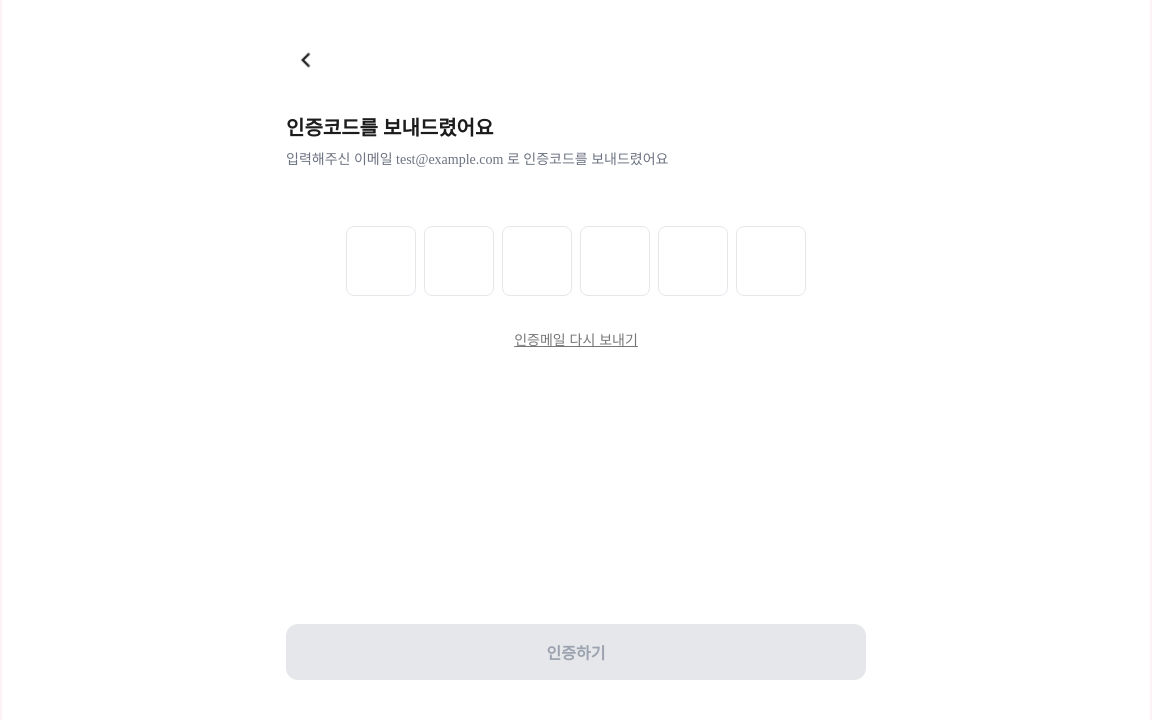
it: VerifyPage › 인증 동작 › 인증 실패 시 에러 메시지가 표시되고 코드가 초기화된다
Click the 1st field at [381, 261], box [346,226,416,296]
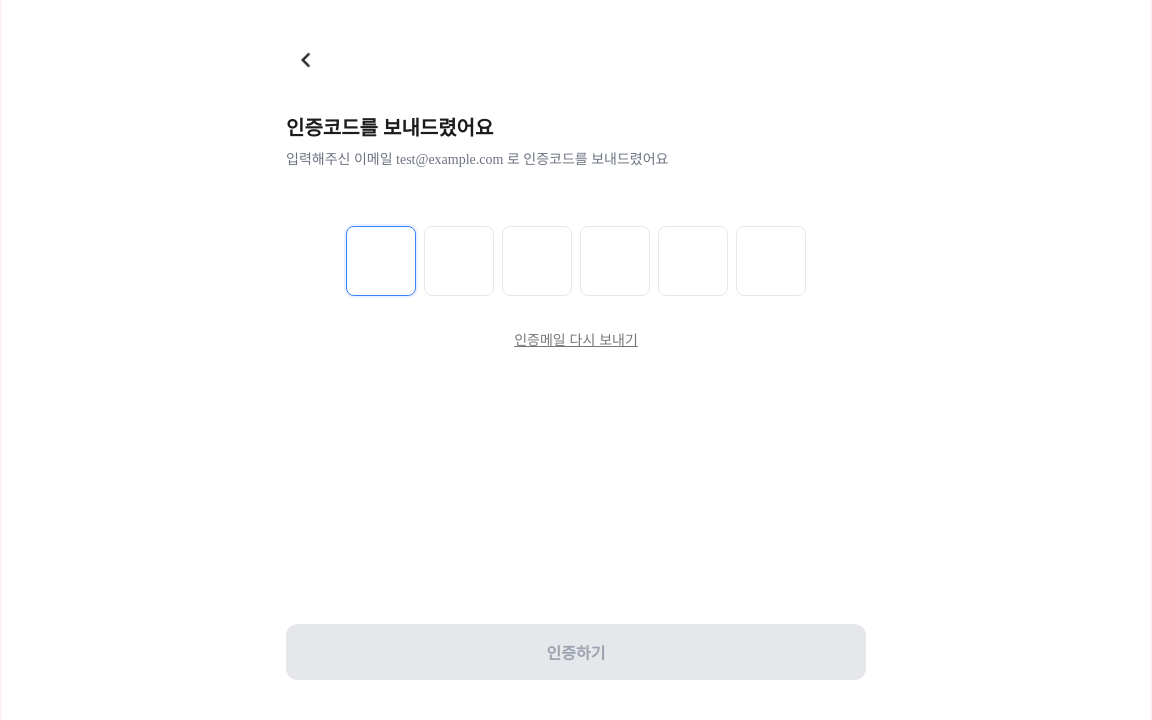
Type keys "999999"
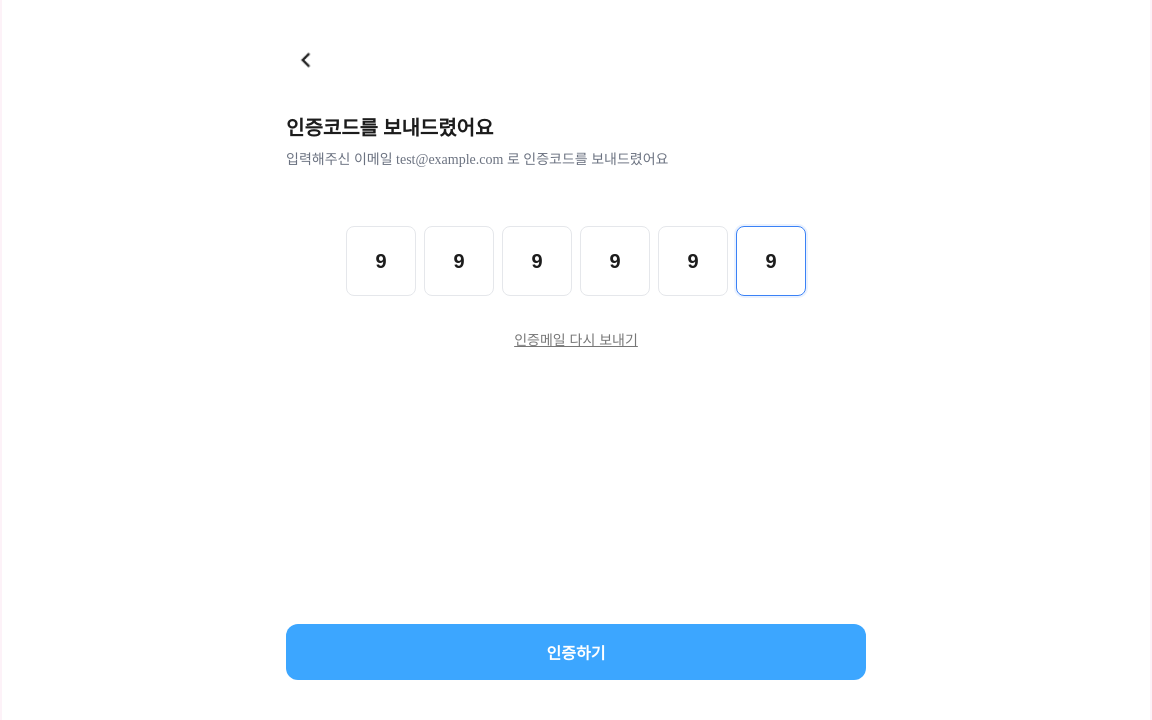
Click the button "인증하기" at [576, 652], box [286,624,866,680]
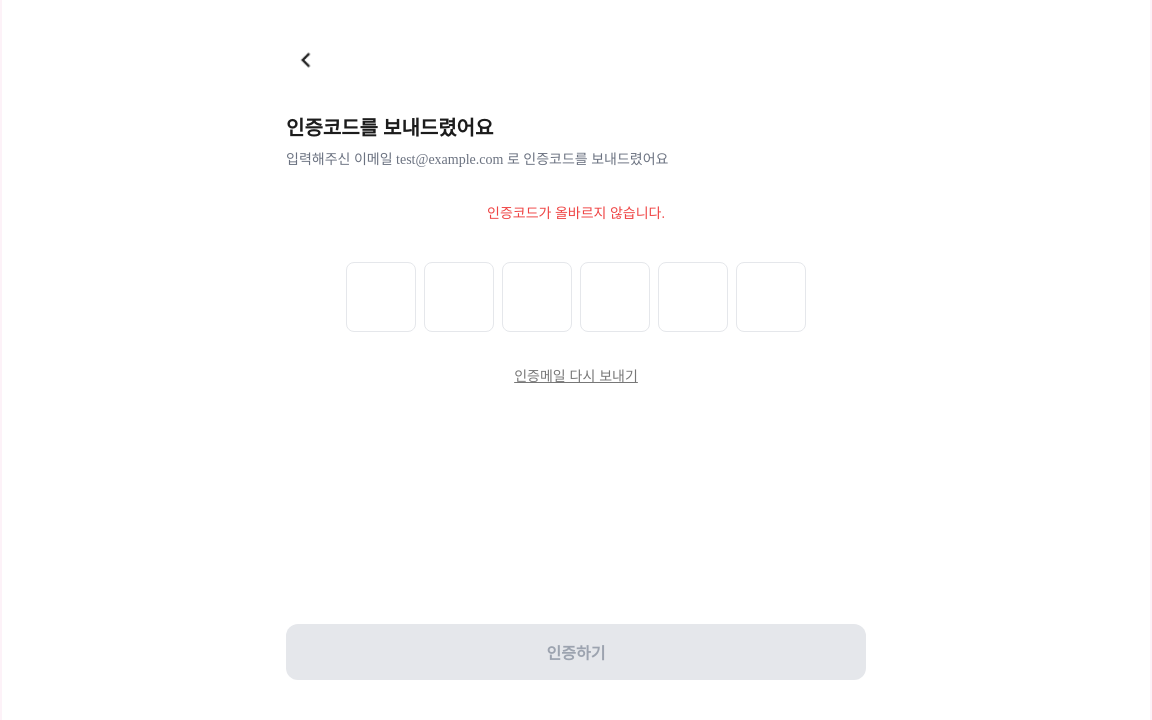
Result: the text "인증코드가 올바르지 않습니다." is shown at [487,206,665,221]
Result: the 1st field is empty at [346,262,416,332]
Result: the 2nd field is empty at [424,262,494,332]
